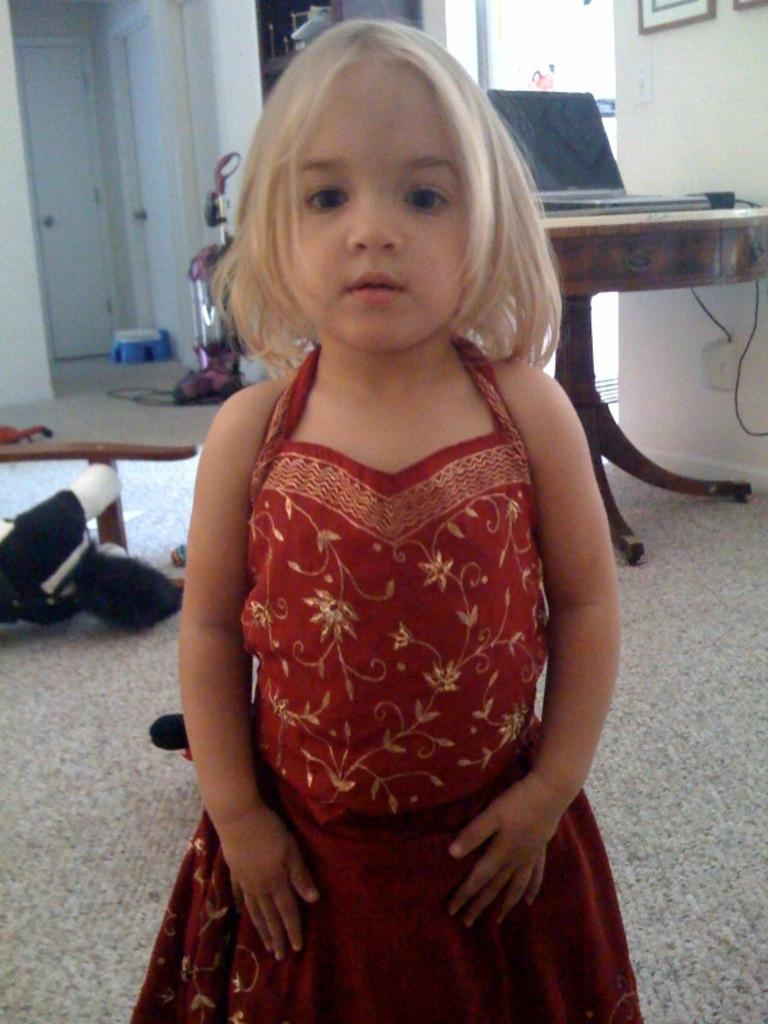Sem Máscara: (276, 60, 460, 350)
